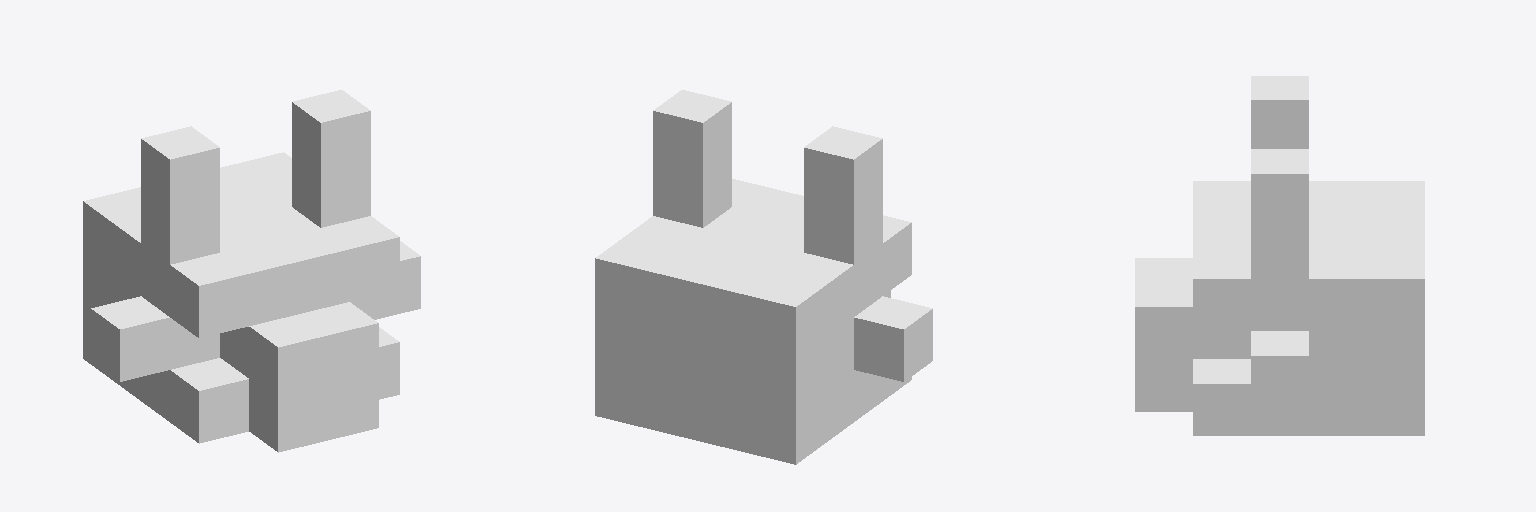
The model's file is Loren-4.obj.
The picture shows the model from 3 angles: view 1: azimuth 30°, elevation 25°; view 2: azimuth 150°, elevation 25°; view 3: azimuth 270°, elevation 25°; orthographic projection.
Visible parts, largest first — view 1: object 1; view 2: object 1; view 3: object 1.
Boxes of the visible parts, <box> form: object 1: <box>83,90,420,452</box>; object 1: <box>595,90,932,464</box>; object 1: <box>1135,76,1424,435</box>.
Size of the model in its own units: 0.6 by 0.5 by 0.5.